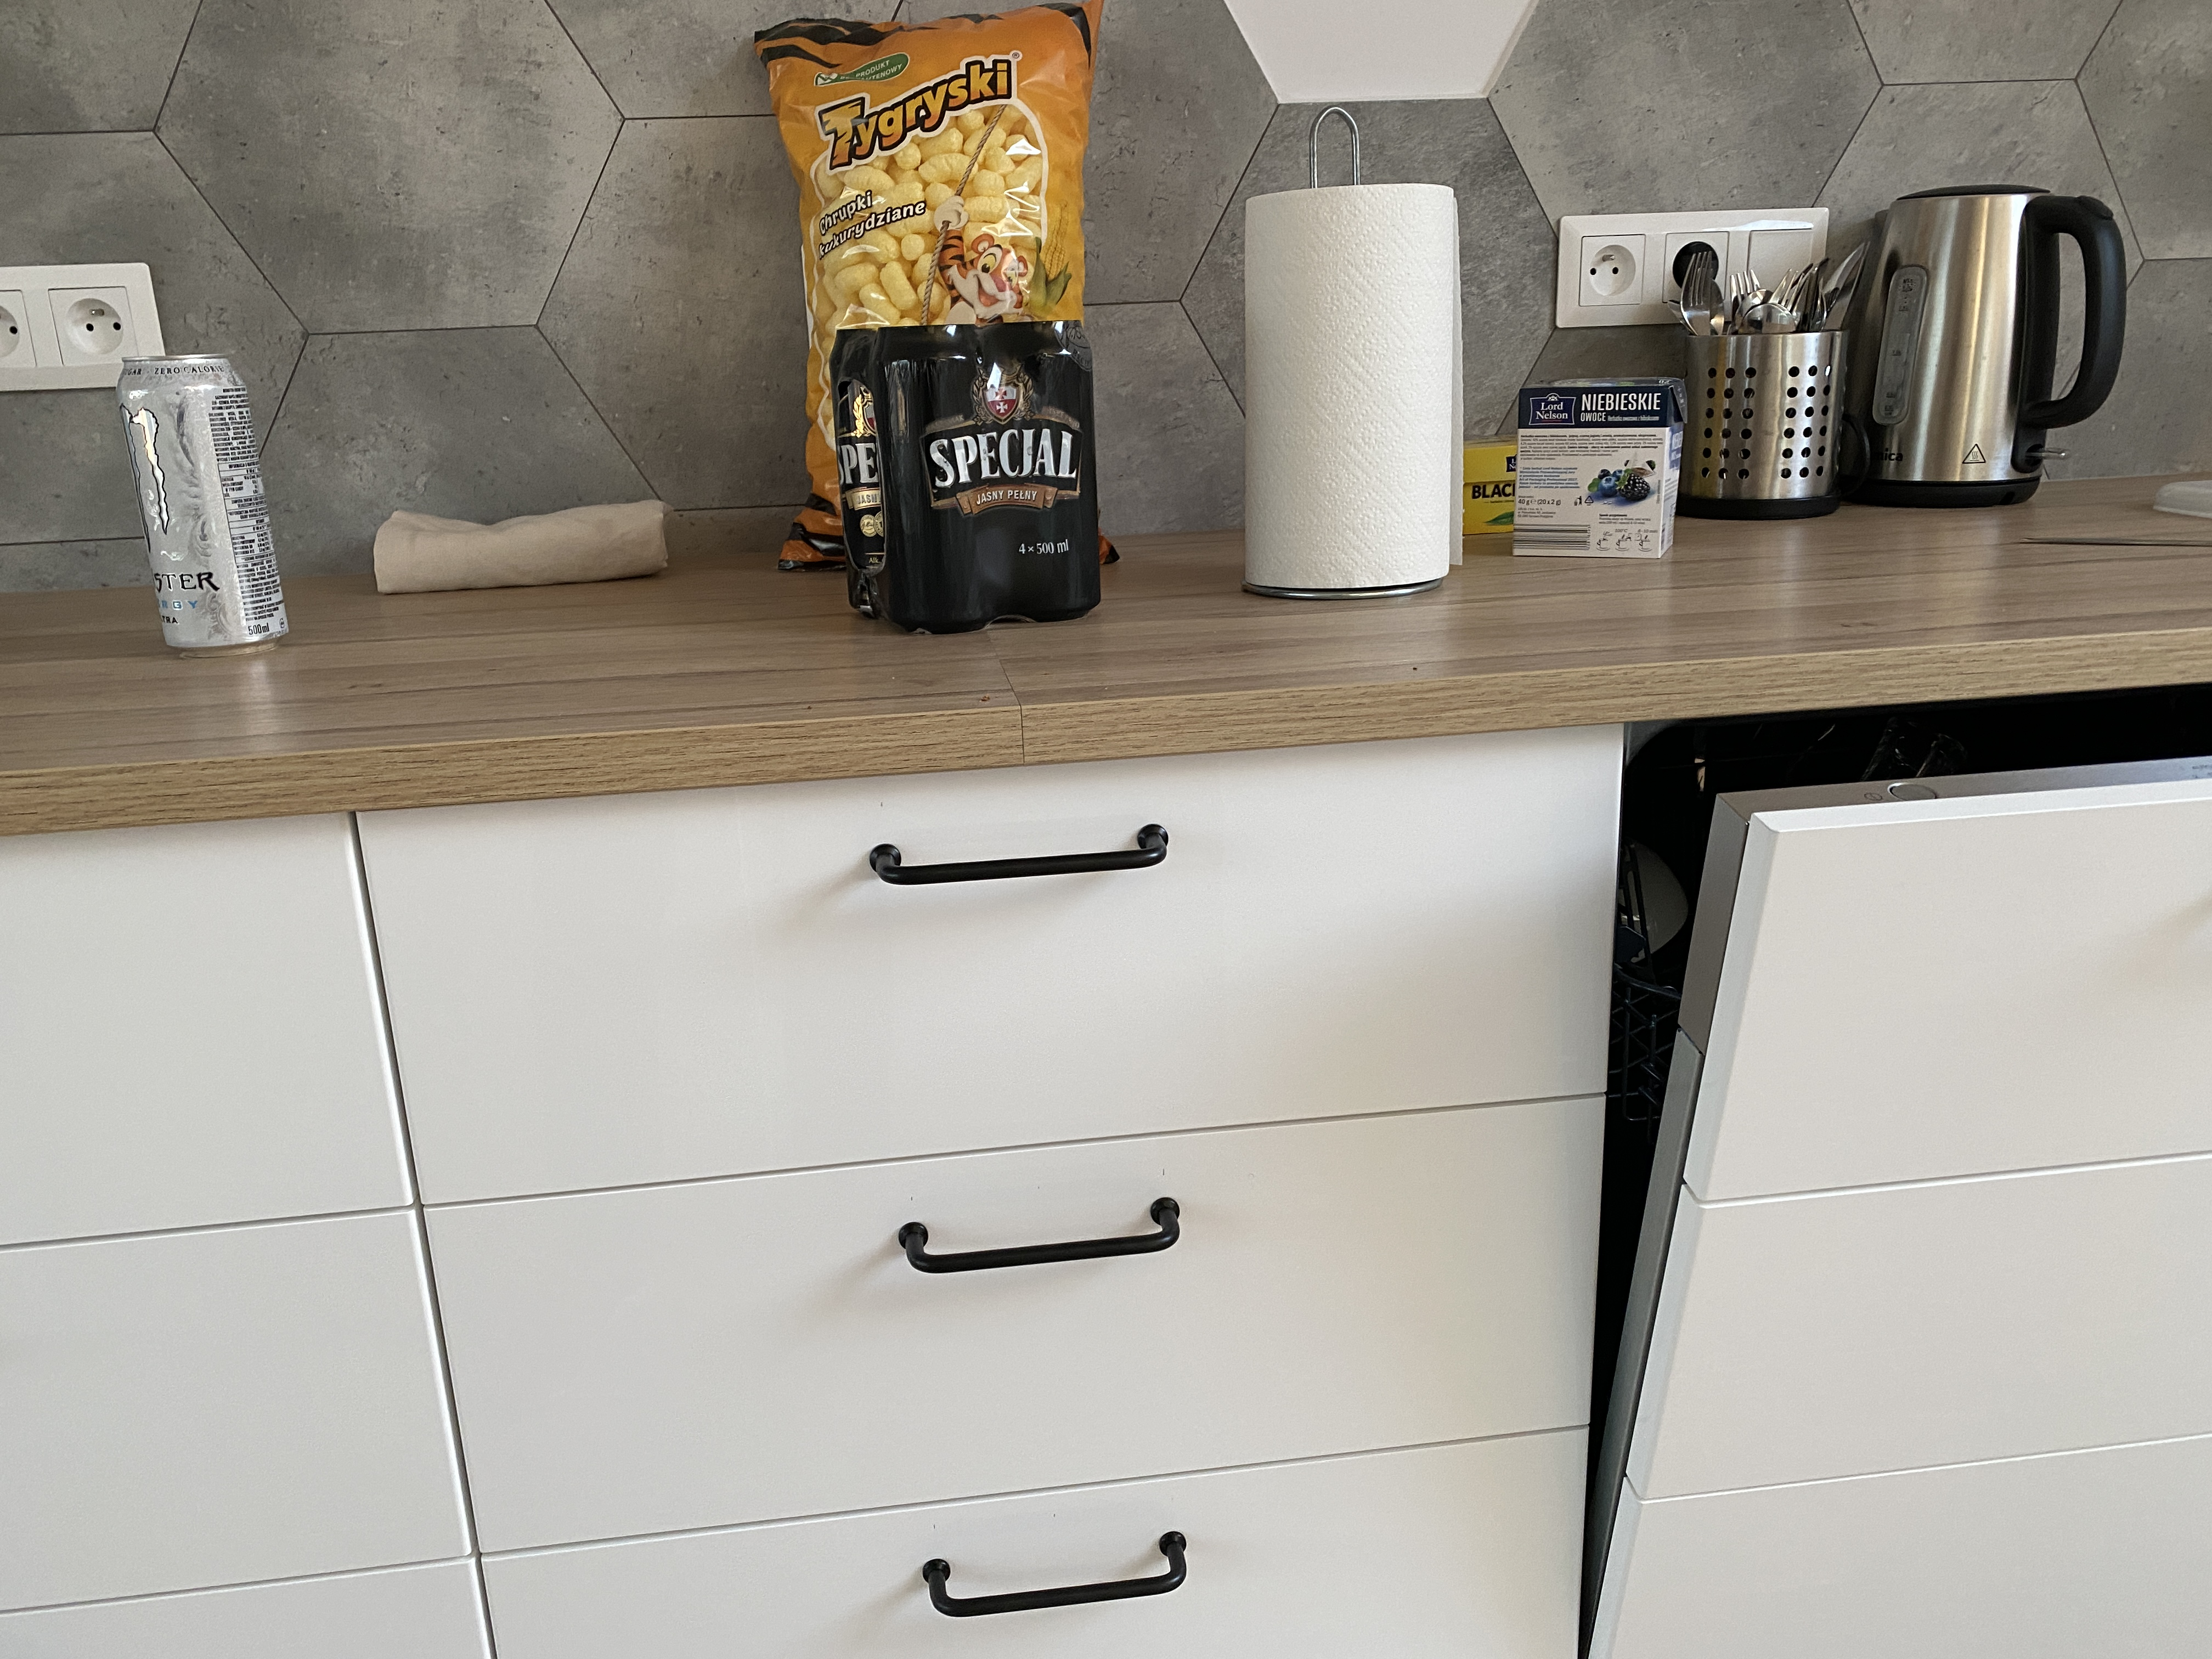specjal: (829, 324, 1096, 638)
